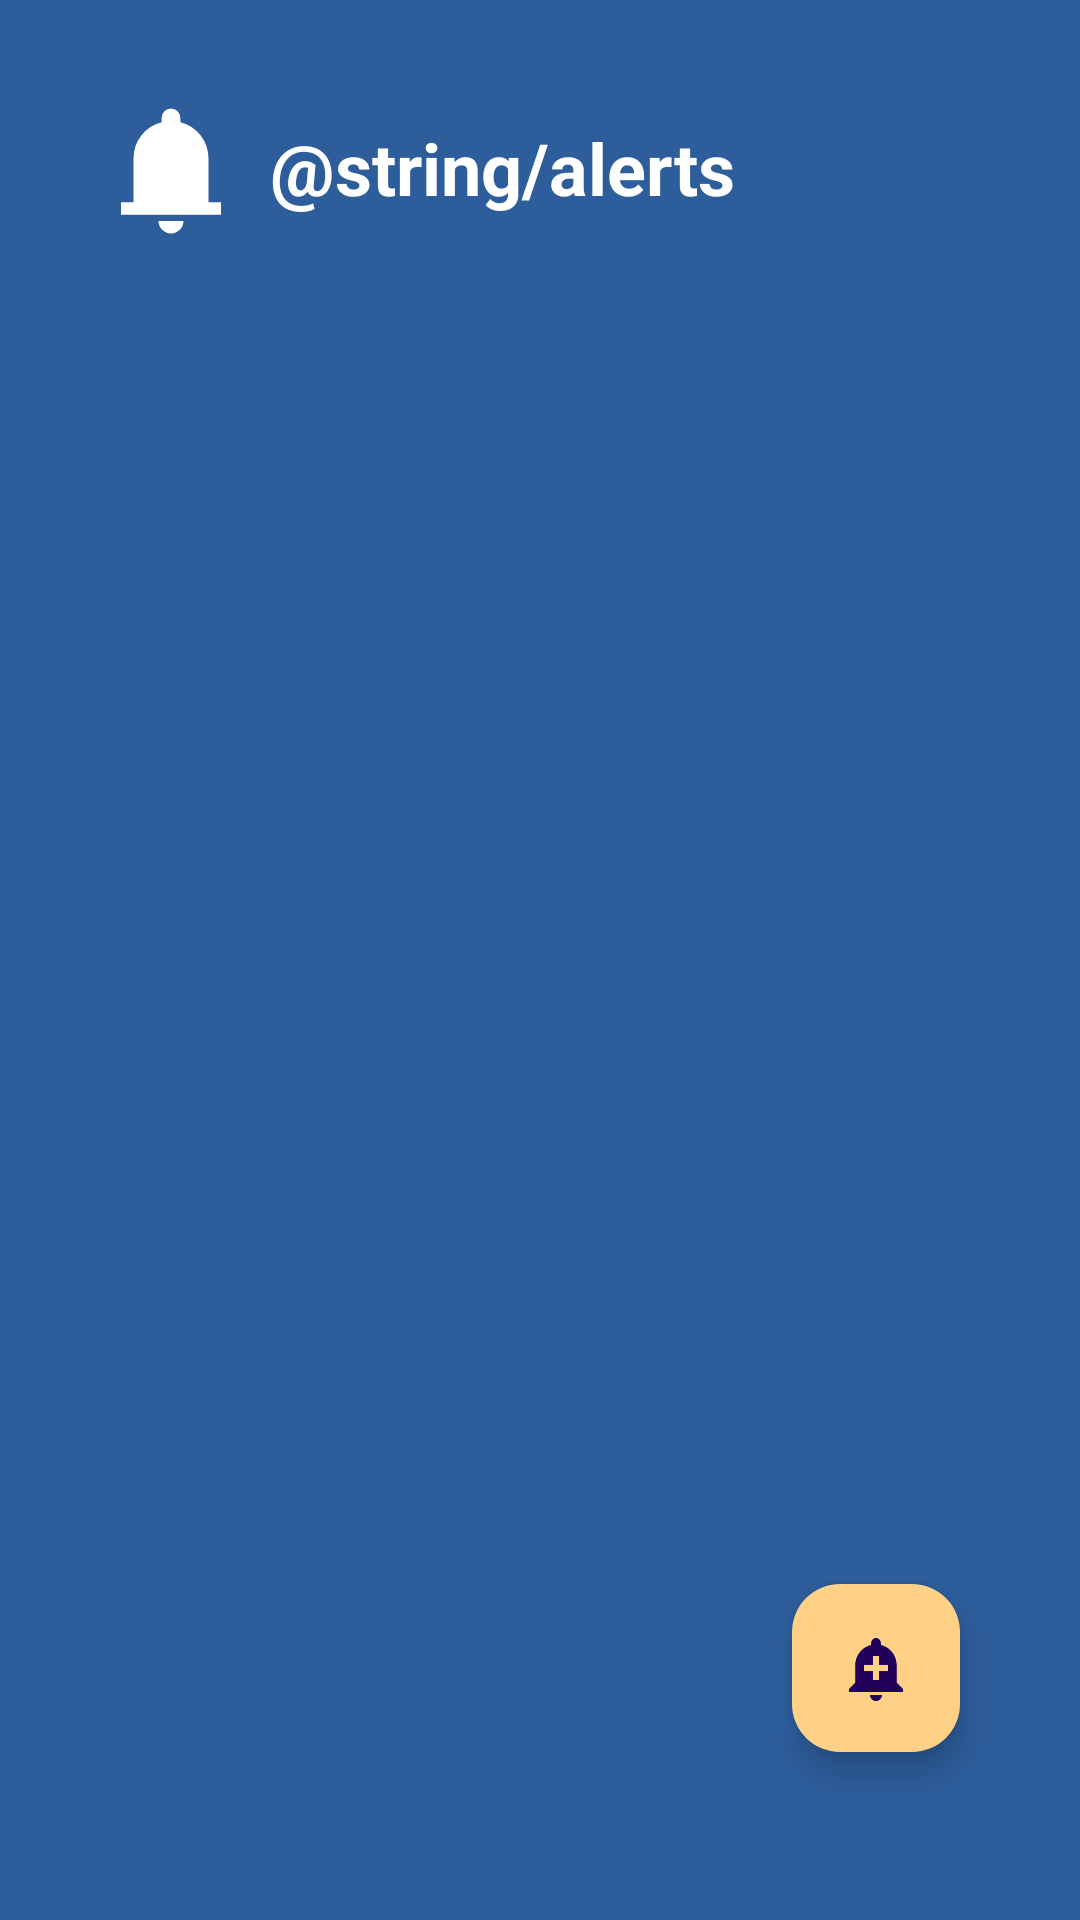

Icons on this 1080×1920 Android screen, each with the point to tap as (x=x, y=y):
add alert: (x=876, y=1668)
